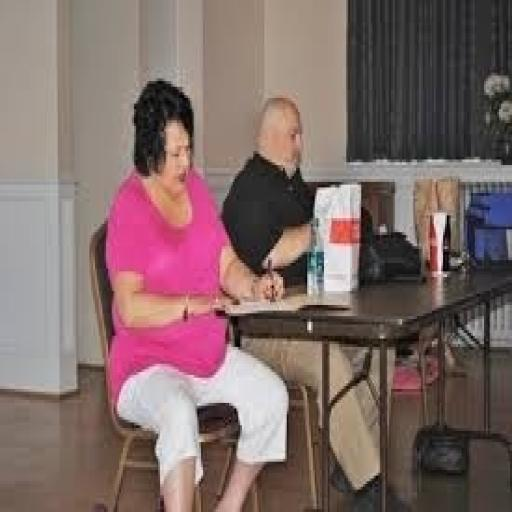sitting: (102, 76, 290, 509), (220, 90, 406, 506)
